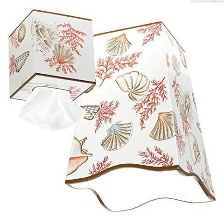plastic_box: (59, 16, 221, 217), (2, 6, 101, 108)
tissue: (14, 83, 91, 137)
